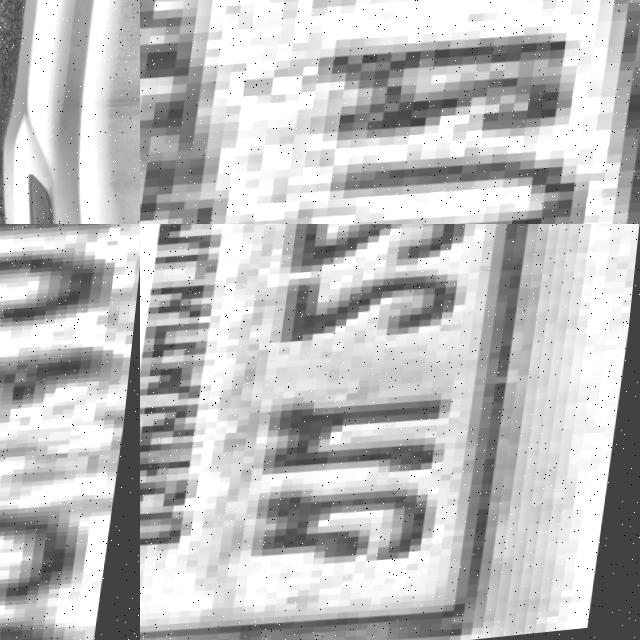license-plate: (140, 224, 579, 640), (140, 0, 640, 224), (0, 224, 140, 640)
